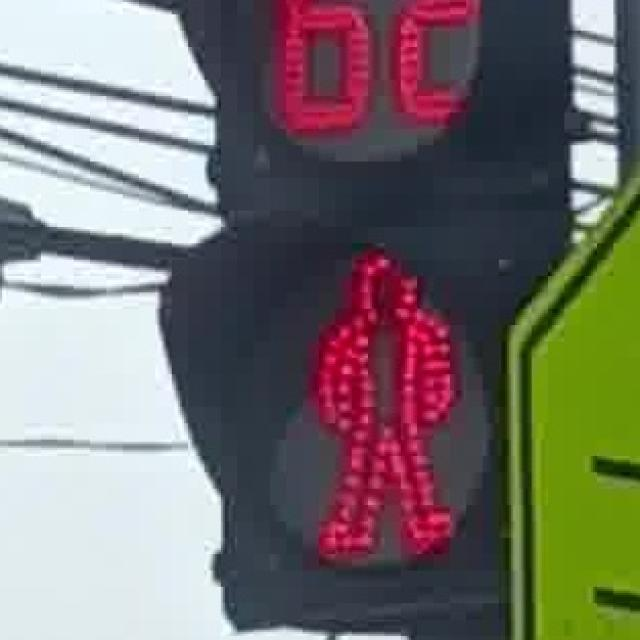red_light: (283, 237, 477, 562)
